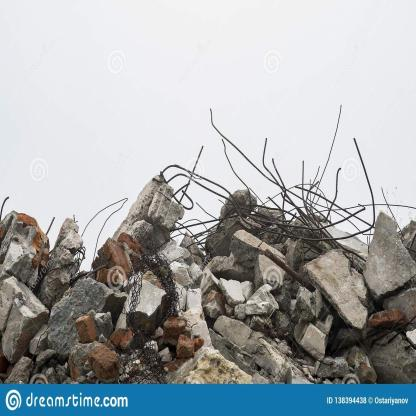rebar: (209, 99, 377, 262), (160, 143, 229, 212), (73, 244, 91, 272), (45, 214, 54, 243), (0, 195, 8, 222)
